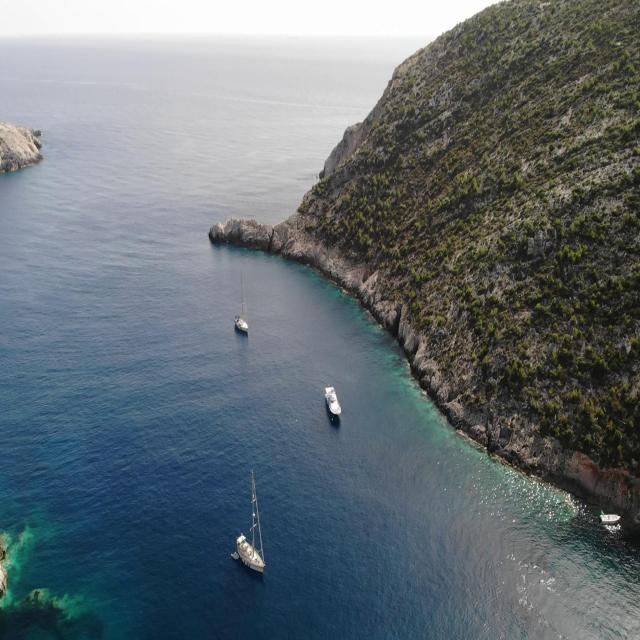boat: (324, 384, 344, 422), (599, 508, 621, 527), (231, 549, 238, 561)
sailboat: (236, 466, 265, 576), (234, 268, 248, 336)
